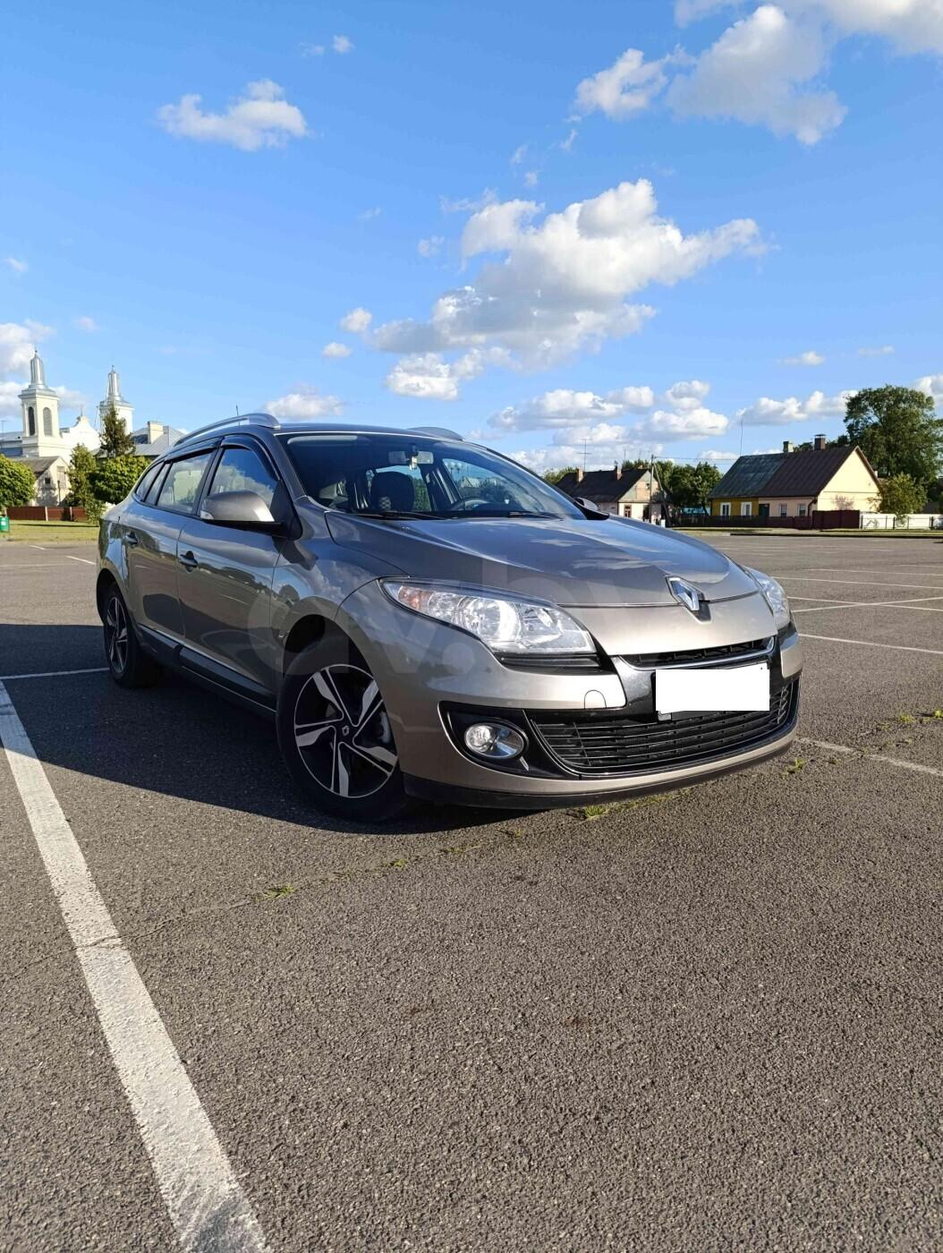Megane_2012-2014: (86, 417, 803, 840)
